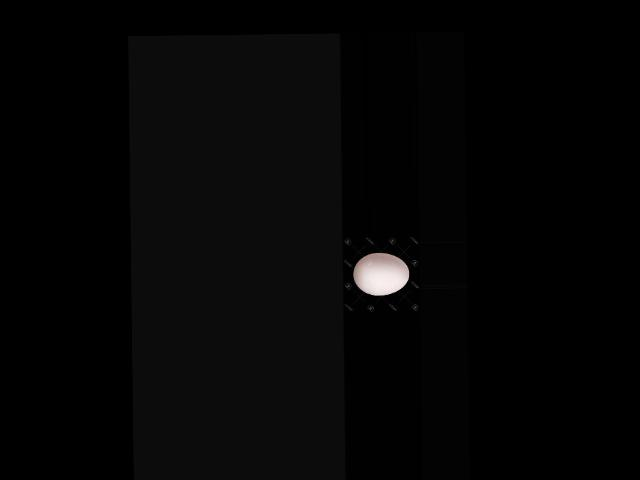egg: (353, 253, 409, 296)
